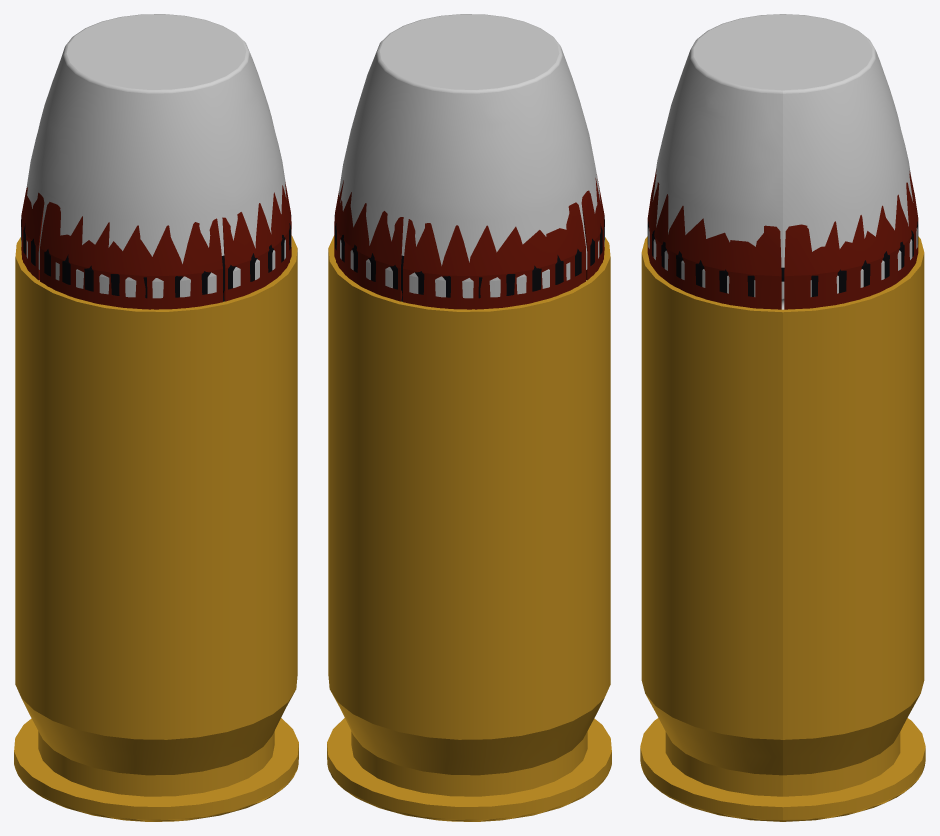
The picture shows the model from 3 angles, left to right: view 1: azimuth 30°, elevation 25°; view 2: azimuth 150°, elevation 25°; view 3: azimuth 270°, elevation 25°; orthographic projection.
Parts seen in each view (by area): view 1: o4_IndexedFaceSet_o4_IndexedFaceSet.009, o12_IndexedFaceSet.001_o12_IndexedFaceSet.012, o17_IndexedFaceSet_o17_IndexedFaceSet.001, o12_IndexedFaceSet_o12_IndexedFaceSet.011; view 2: o4_IndexedFaceSet_o4_IndexedFaceSet.009, o12_IndexedFaceSet.001_o12_IndexedFaceSet.012, o17_IndexedFaceSet_o17_IndexedFaceSet.001, o12_IndexedFaceSet_o12_IndexedFaceSet.011; view 3: o4_IndexedFaceSet_o4_IndexedFaceSet.009, o12_IndexedFaceSet.001_o12_IndexedFaceSet.012, o17_IndexedFaceSet_o17_IndexedFaceSet.001, o12_IndexedFaceSet_o12_IndexedFaceSet.011.
Part boxes in pixels (x1=…): o4_IndexedFaceSet_o4_IndexedFaceSet.009: x1=14, y1=235, x2=298, y2=821; o12_IndexedFaceSet.001_o12_IndexedFaceSet.012: x1=21, y1=14, x2=291, y2=298; o17_IndexedFaceSet_o17_IndexedFaceSet.001: x1=21, y1=182, x2=291, y2=309; o12_IndexedFaceSet_o12_IndexedFaceSet.011: x1=21, y1=215, x2=291, y2=301; o4_IndexedFaceSet_o4_IndexedFaceSet.009: x1=327, y1=235, x2=611, y2=821; o12_IndexedFaceSet.001_o12_IndexedFaceSet.012: x1=338, y1=14, x2=604, y2=298; o17_IndexedFaceSet_o17_IndexedFaceSet.001: x1=334, y1=178, x2=604, y2=309; o12_IndexedFaceSet_o12_IndexedFaceSet.011: x1=334, y1=215, x2=604, y2=301; o4_IndexedFaceSet_o4_IndexedFaceSet.009: x1=640, y1=236, x2=925, y2=821; o12_IndexedFaceSet.001_o12_IndexedFaceSet.012: x1=648, y1=14, x2=917, y2=309; o17_IndexedFaceSet_o17_IndexedFaceSet.001: x1=647, y1=169, x2=918, y2=309; o12_IndexedFaceSet_o12_IndexedFaceSet.011: x1=647, y1=221, x2=918, y2=296.
Bounding box in the file's own units: 12.08 × 33.66 × 12.08.
